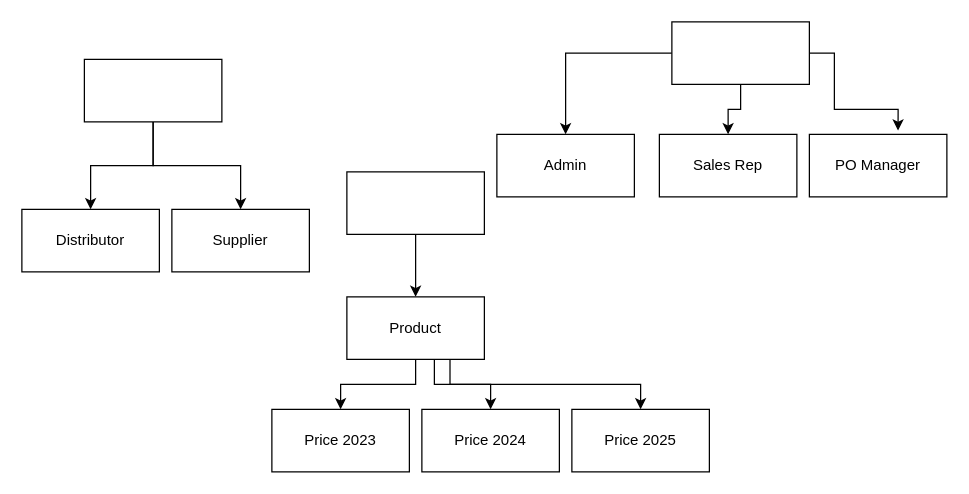
The diagram is 969 pixels wide and 494 high, and some of its shapes have lost their labels. The centre of each missing label's shape, as x and y in pixels:
Client: point 152,90
Purchase Order: point 415,202
User: point 740,52
